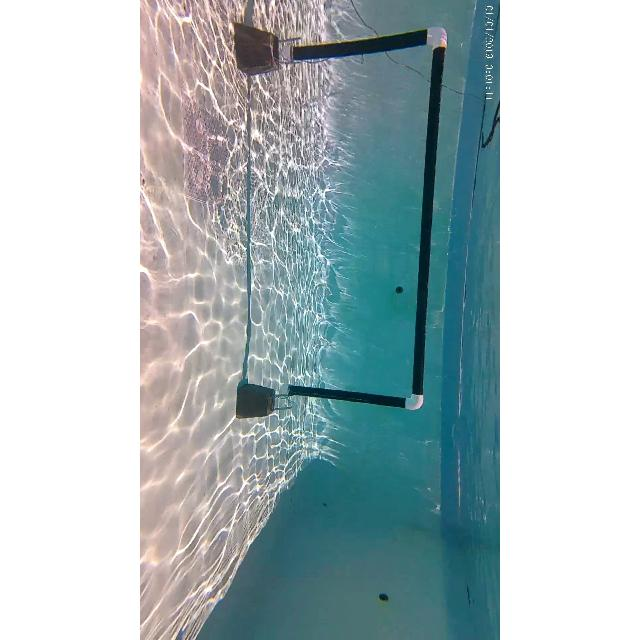prequal gate: (280, 27, 446, 411)
prequal gate leg l: (226, 11, 454, 79)
prequal gate leg r: (227, 366, 438, 424)
